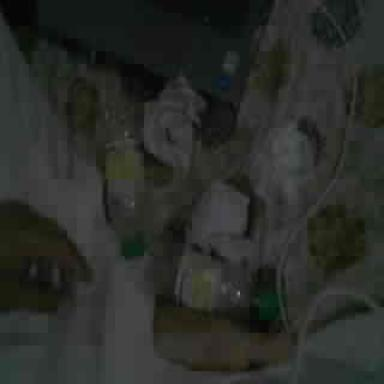bottle: (176, 246, 250, 315), (104, 117, 144, 243)
paper: (190, 117, 317, 259), (144, 77, 204, 173)
